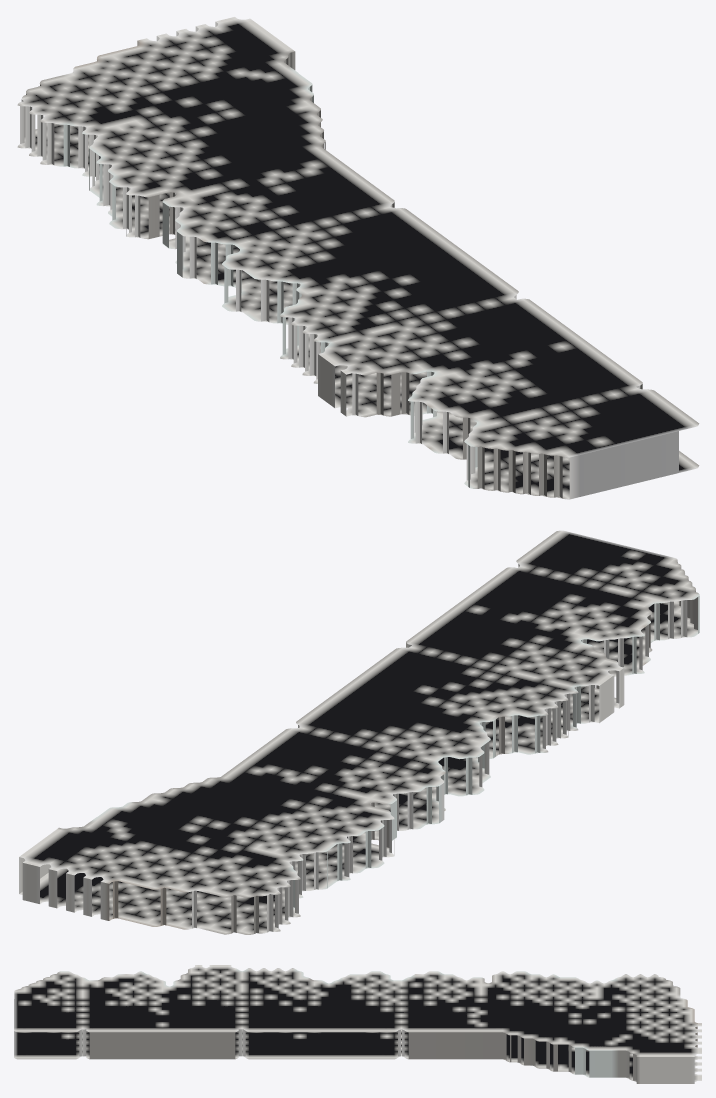
File: pillar.fbx
3 renders of one model, top to bottom at view 1: azimuth 30°, elevation 25°; view 2: azimuth 150°, elevation 25°; view 3: azimuth 270°, elevation 25°, orthographic. The views are drawn at different scales.
Visible parts, largest first — view 1: Pillar; view 2: Pillar; view 3: Pillar.
Boxes of the visible parts, x1,y1,x2,y2 form: Pillar: [17, 17, 699, 499]; Pillar: [19, 530, 699, 934]; Pillar: [14, 965, 701, 1083].
Size of the model in its own units: 31.25 by 4.28 by 98.96.
1 material, 1 textured.
